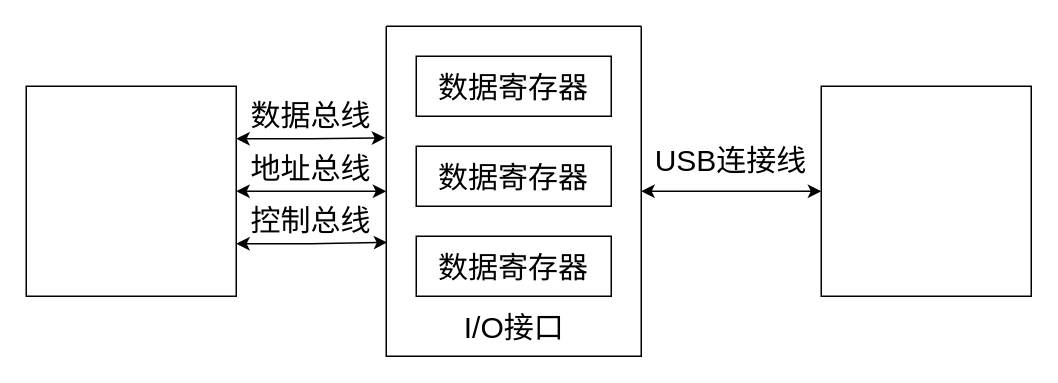
Image size: 1058x383. Some labels were removed from this diagram. Here are the shapes that lost their labels. From the top down, the centre of each, then its label:
pixel 130 190: CPU
pixel 925 190: 键盘
